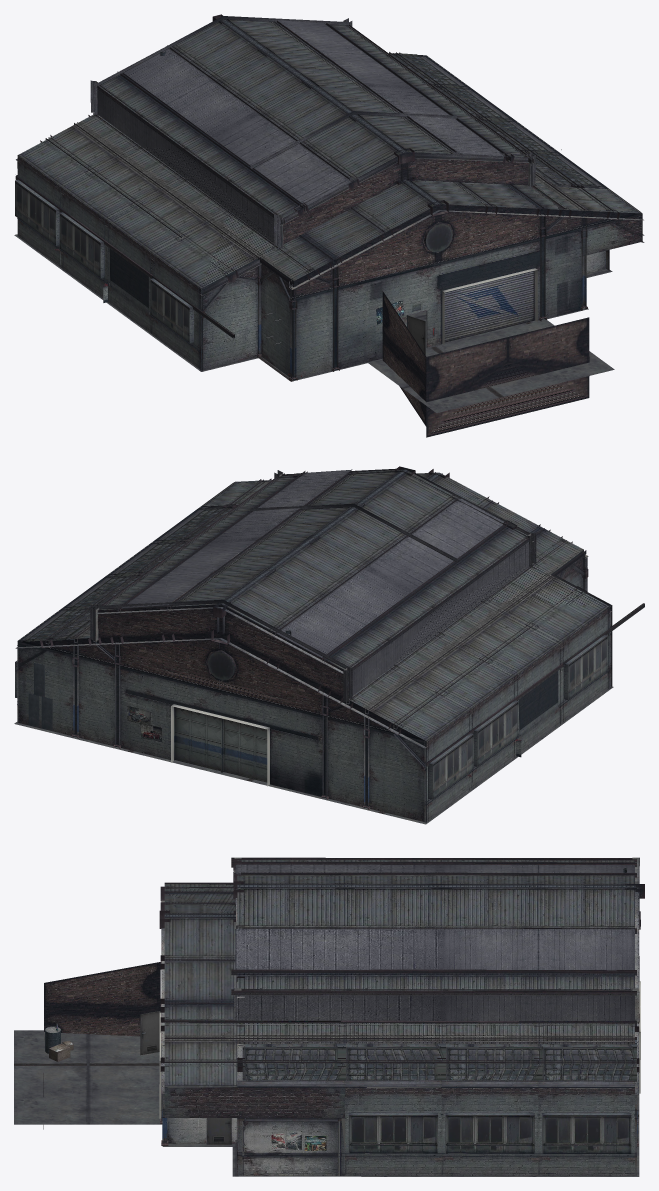
Rendered from nfs_no_limits_garage_COMPRESSED.glb.
3 views of the same model, one above another, from view 1: azimuth 30°, elevation 25°; view 2: azimuth 150°, elevation 25°; view 3: azimuth 270°, elevation 25° (orthographic). The views are drawn at different scales.
Visible parts, largest first — view 1: Object_13, Object_11, Object_7; view 2: Object_13, Object_11, Object_7, Object_17; view 3: Object_13, Object_11, Object_7, Object_9.
Part boxes in pixels (x1=…): Object_13: x1=15, y1=14, x2=644, y2=381; Object_11: x1=15, y1=21, x2=641, y2=437; Object_7: x1=14, y1=234, x2=614, y2=413; Object_13: x1=15, y1=466, x2=612, y2=822; Object_11: x1=17, y1=470, x2=644, y2=822; Object_7: x1=14, y1=656, x2=613, y2=824; Object_17: x1=28, y1=496, x2=524, y2=730; Object_13: x1=159, y1=857, x2=644, y2=1175; Object_11: x1=43, y1=857, x2=640, y2=1156; Object_7: x1=14, y1=970, x2=639, y2=1176; Object_9: x1=44, y1=1023, x2=73, y2=1061.
Size of what is drawn, in the model's own units: 19.62 by 9.31 by 23.69.
6 materials, 6 textured.
